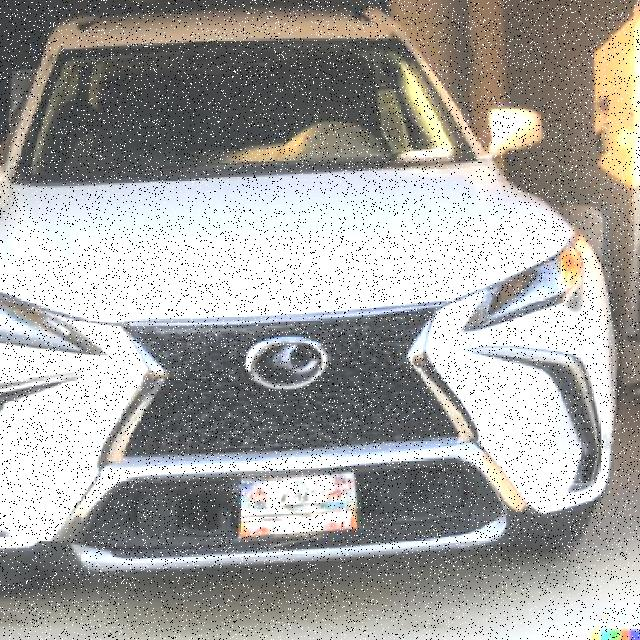licenseplate: (239, 473, 357, 538)
